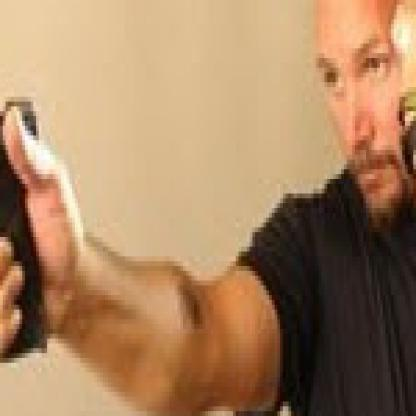gun: (0, 77, 67, 392)
